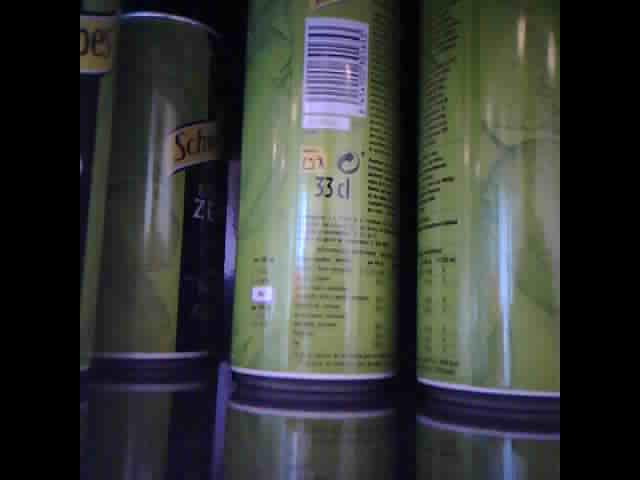schweppes: (224, 1, 405, 396), (412, 7, 560, 414), (92, 18, 225, 368)
